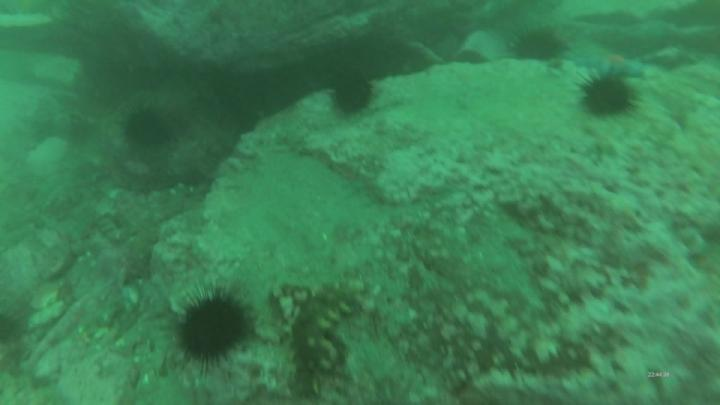echinus: (170, 282, 256, 375), (578, 68, 642, 121), (121, 103, 178, 153), (330, 67, 375, 119), (508, 31, 567, 64)
holothurian: (292, 274, 368, 384)
starfish: (585, 51, 651, 83)
